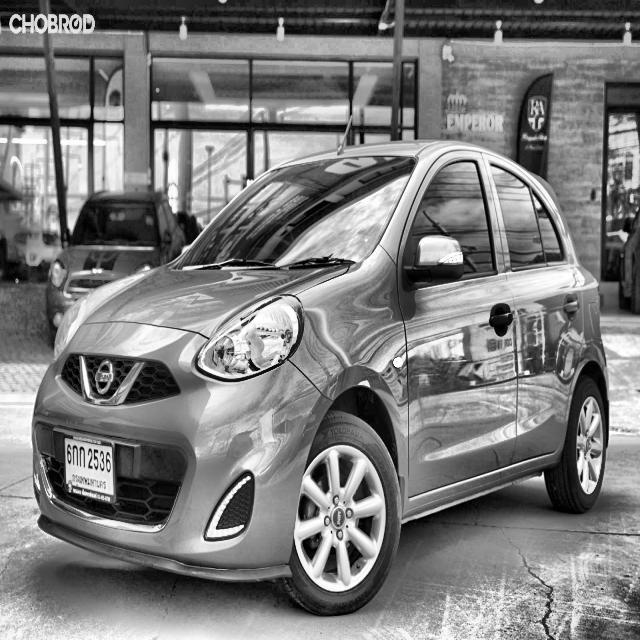license-plate: (57, 426, 119, 514)
